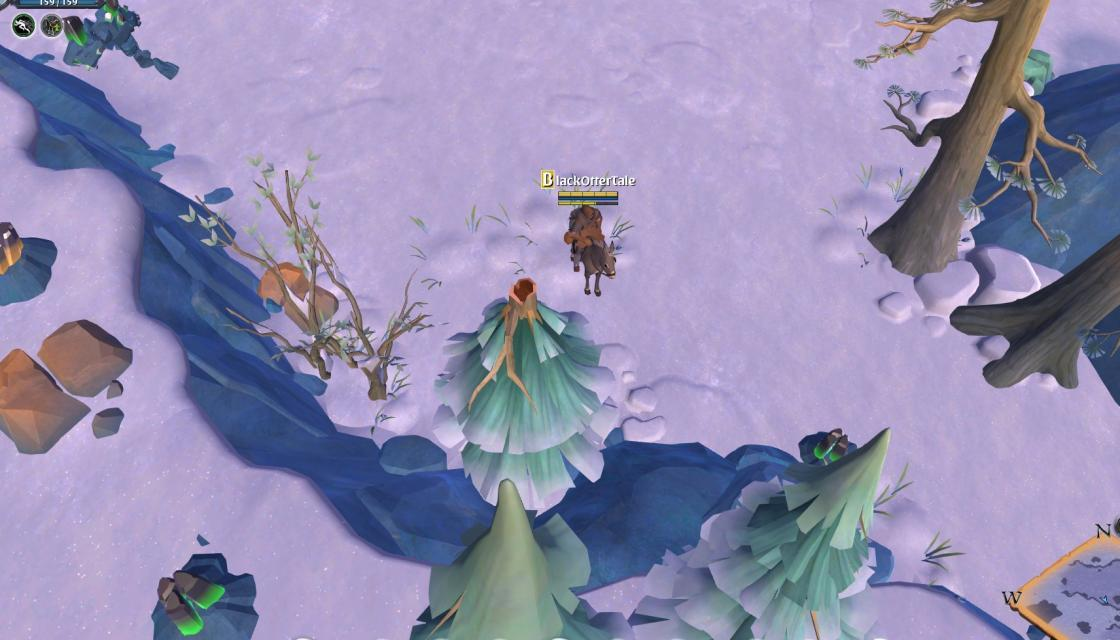copperore: (0, 218, 52, 309)
limestone: (0, 315, 135, 458), (254, 258, 345, 325)
tinore: (139, 547, 254, 640), (796, 426, 866, 474)
